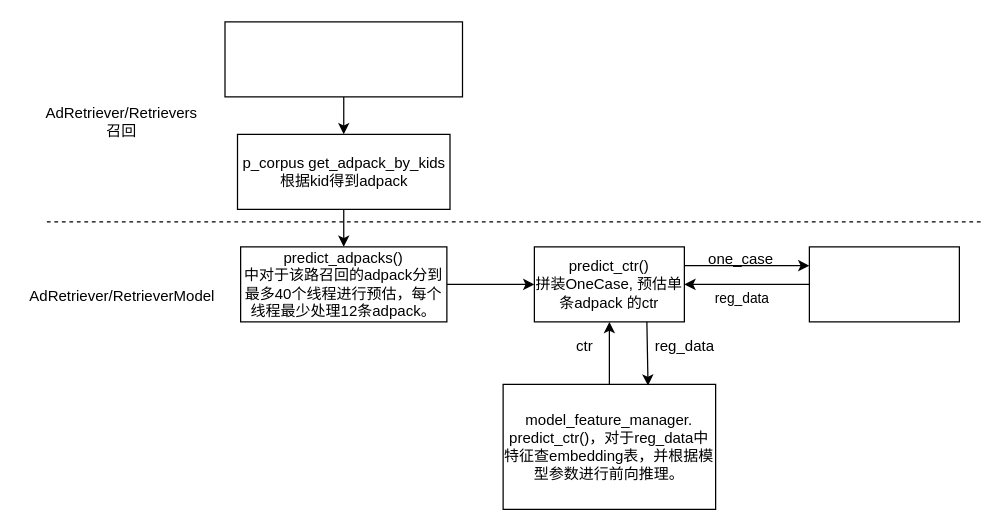
Image size: 1008x531. Some labels were removed from this diagram. The shapes that lost their labels are listed below. From the top down, each one's box as (x1, y1, x2, y2) in pixels, then its label:
(224, 21, 462, 97): p_corpus 根据keyword得到kid
(808, 246, 959, 322): feature_manager. get_features()
